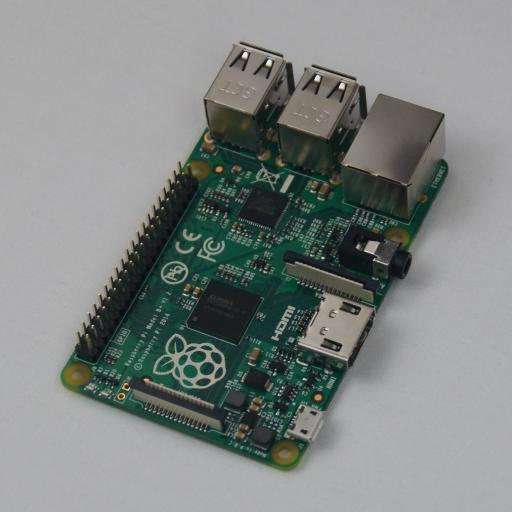Raspberry Pi 1 B-: (61, 42, 448, 471)
